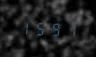five: (32, 19, 45, 36)
nine: (46, 19, 59, 37)
one: (18, 18, 31, 36), (60, 20, 73, 37)
